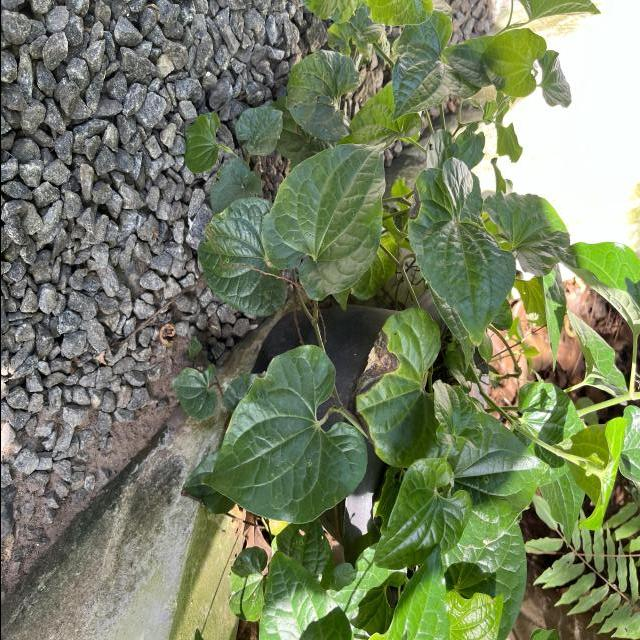Piper longum: (196, 342, 369, 526), (259, 140, 388, 303), (370, 455, 474, 573), (388, 9, 484, 124), (477, 26, 548, 100)
